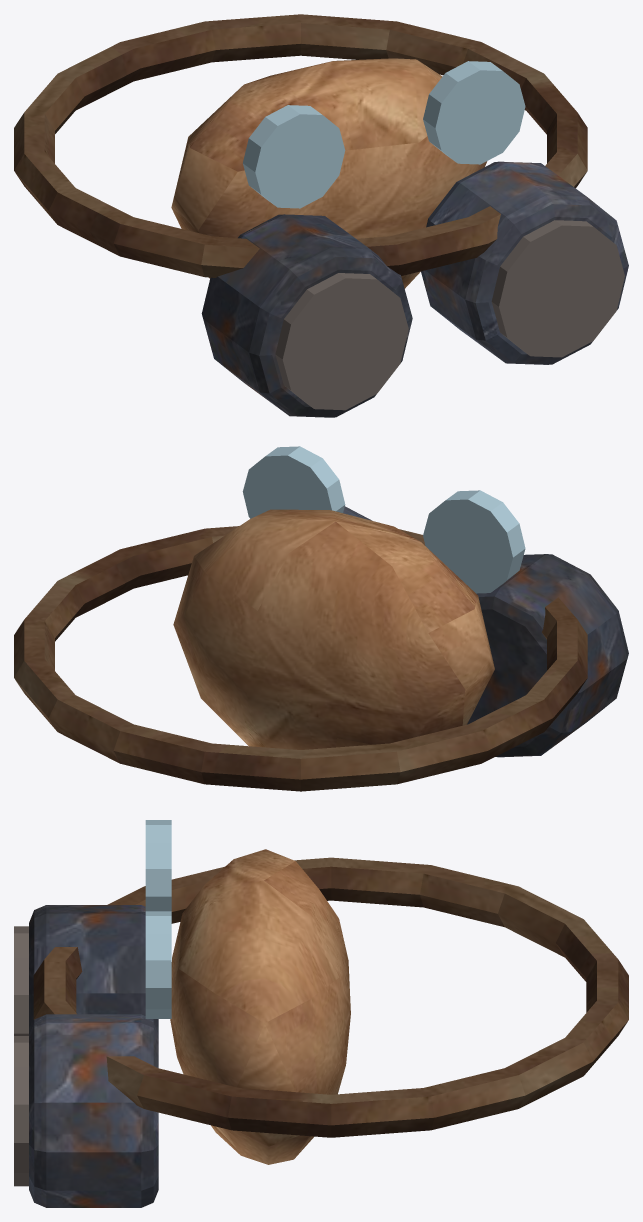
Rendered from spore_mask.glb.
The picture shows the model from 3 angles, top to bottom: view 1: azimuth 30°, elevation 25°; view 2: azimuth 150°, elevation 25°; view 3: azimuth 270°, elevation 25°; orthographic projection. The views are drawn at different scales.
Parts seen in each view (by area): view 1: model; view 2: model; view 3: model.
Part boxes in pixels (bbox=[...]): model: bbox=[14, 14, 628, 417]; model: bbox=[14, 446, 628, 791]; model: bbox=[14, 820, 628, 1207].
Size of the model in its own units: 0.28 by 0.1404 by 0.2849.
Materials: 6 (4 with a texture image).
